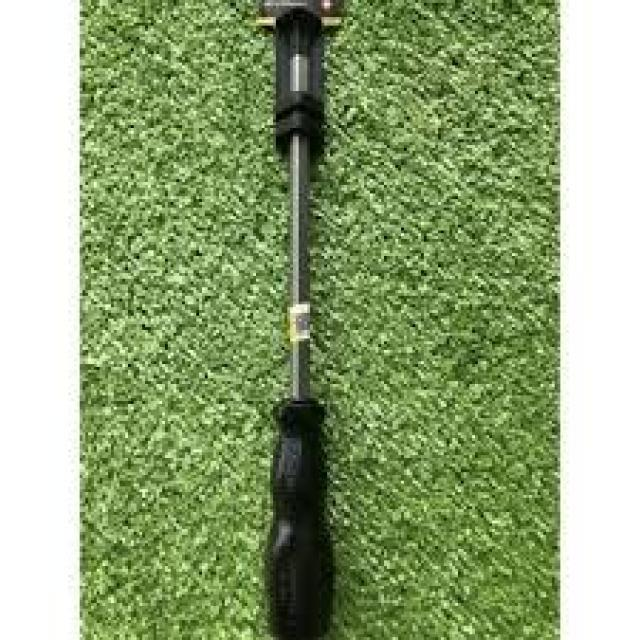screwdriver: (266, 14, 340, 640)
